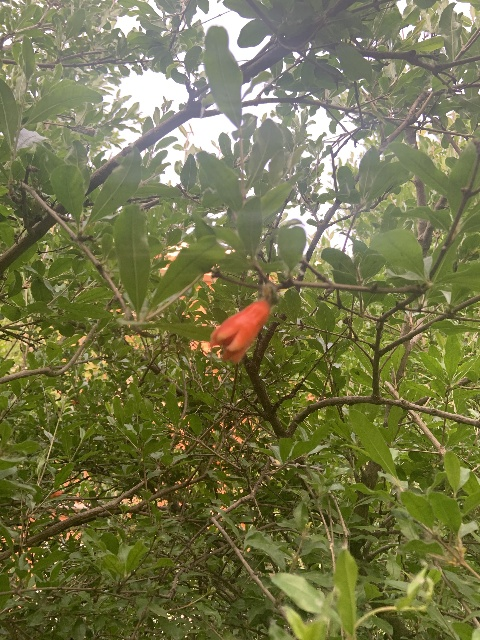flower: (211, 299, 270, 363)
